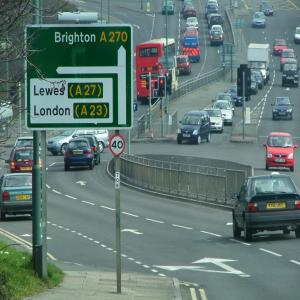Vehicle-registration-plate: (268, 203, 287, 208), (17, 195, 31, 200), (74, 151, 84, 155), (22, 168, 32, 171), (276, 160, 286, 163), (184, 136, 191, 138), (279, 113, 286, 115), (211, 127, 214, 129)
